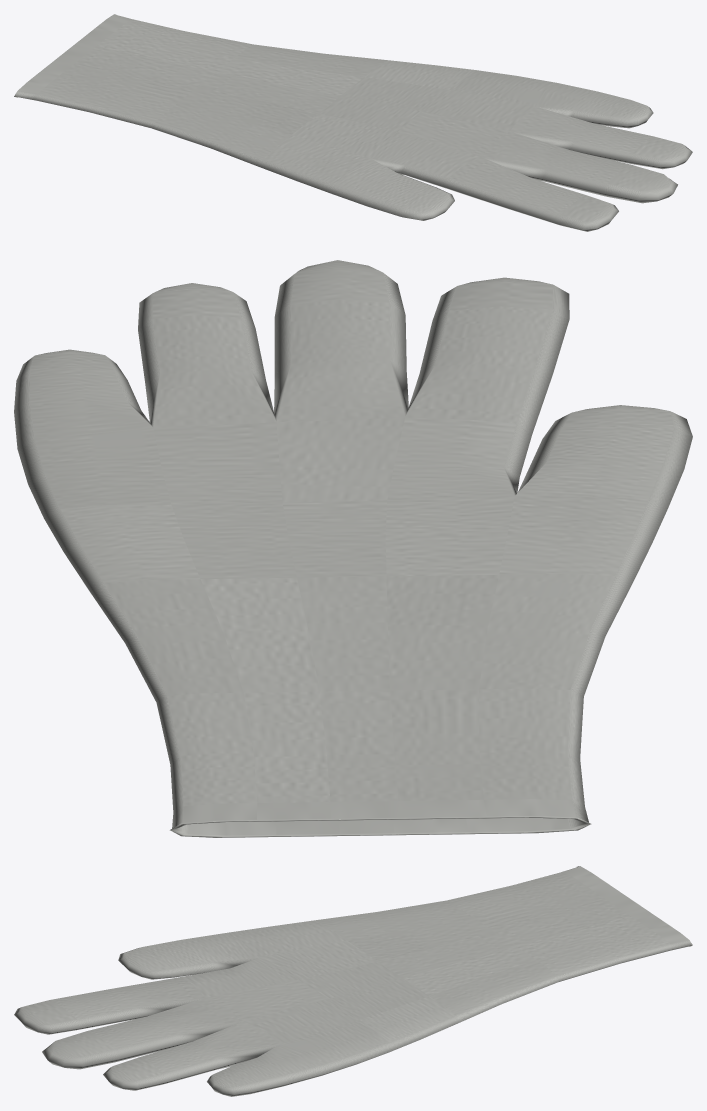
File: glove.gltf
The picture shows the model from 3 angles, top to bottom: view 1: azimuth 30°, elevation 25°; view 2: azimuth 150°, elevation 25°; view 3: azimuth 270°, elevation 25°; orthographic projection. The views are drawn at different scales.
Visible parts, largest first — view 1: Cube; view 2: Cube; view 3: Cube.
Boxes of the visible parts, box(x1,y1,x2,y2) form: Cube: box(14, 14, 692, 231); Cube: box(14, 260, 692, 837); Cube: box(14, 866, 692, 1096).
Size of the model in its own units: 5.93 by 0.2146 by 7.48.
1 material, 1 textured.
